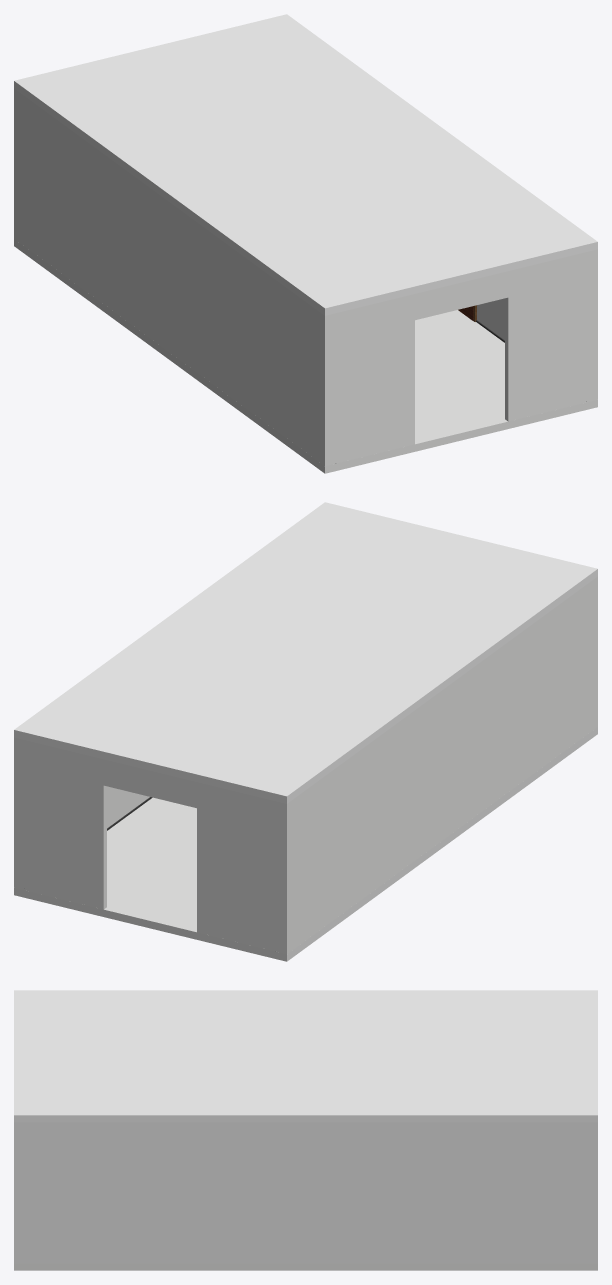
File: room_door_s2.glb
The picture shows the model from 3 angles, top to bottom: view 1: azimuth 30°, elevation 25°; view 2: azimuth 150°, elevation 25°; view 3: azimuth 270°, elevation 25°; orthographic projection. The views are drawn at different scales.
Parts seen in each view (by area): view 1: room_door_s2_static; view 2: room_door_s2_static; view 3: room_door_s2_static.
Part boxes in pixels (x1,y1,x2,y2): room_door_s2_static: [14, 14, 597, 473]; room_door_s2_static: [14, 502, 597, 961]; room_door_s2_static: [14, 990, 597, 1270].
Size of the model in its own units: 7.6 by 4.4 by 15.
12 materials, 2 textured.
